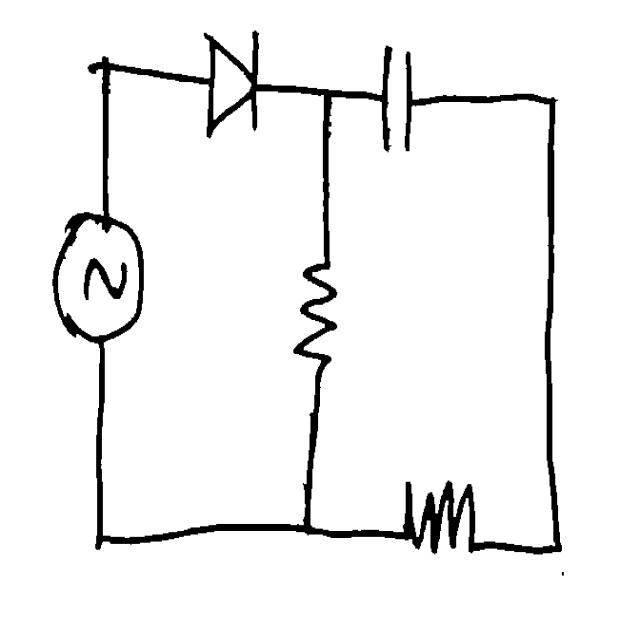ac: (45, 198, 153, 358)
capacitor: (366, 32, 426, 159)
diode: (193, 17, 274, 148)
resistor: (384, 466, 492, 574), (292, 244, 347, 386)
